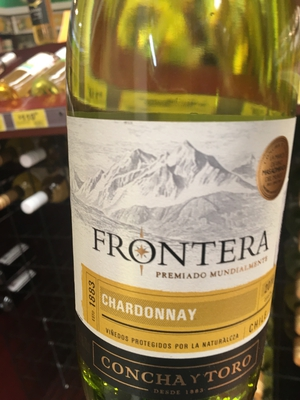frontera chardonnay: (55, 23, 295, 400)
